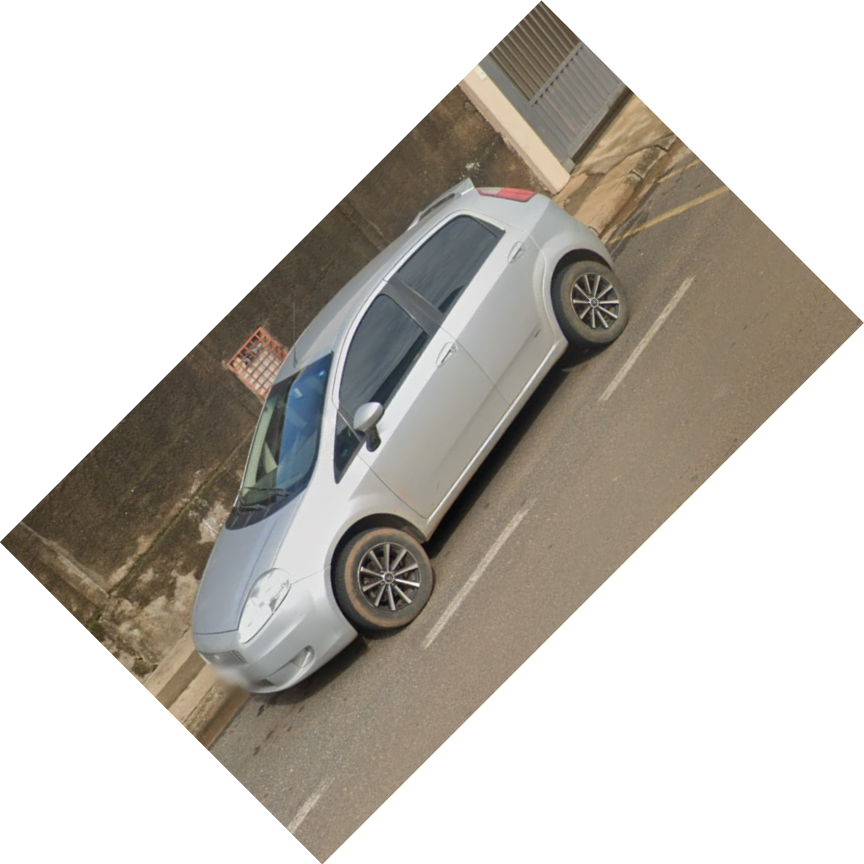car: (192, 183, 635, 693)
